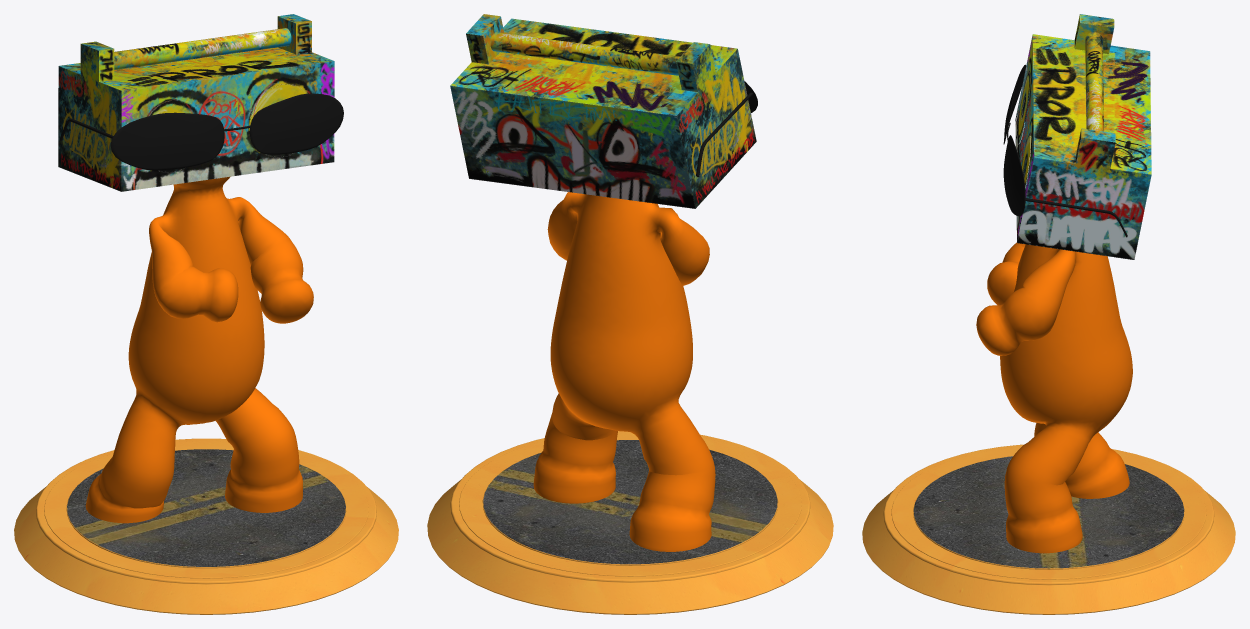
3 views of the same model, side by side, from view 1: azimuth 30°, elevation 25°; view 2: azimuth 150°, elevation 25°; view 3: azimuth 270°, elevation 25° (orthographic). The views are drawn at different scales.
Visible parts, largest first — view 1: BBody; view 2: BBody; view 3: BBody.
Part boxes in pixels (x1=…): BBody: x1=14, y1=14, x2=398, y2=614; BBody: x1=427, y1=14, x2=833, y2=614; BBody: x1=862, y1=14, x2=1235, y2=614.
Bounding box in the file's own units: 1.45 × 2.05 × 1.45.
5 materials, 3 textured.
